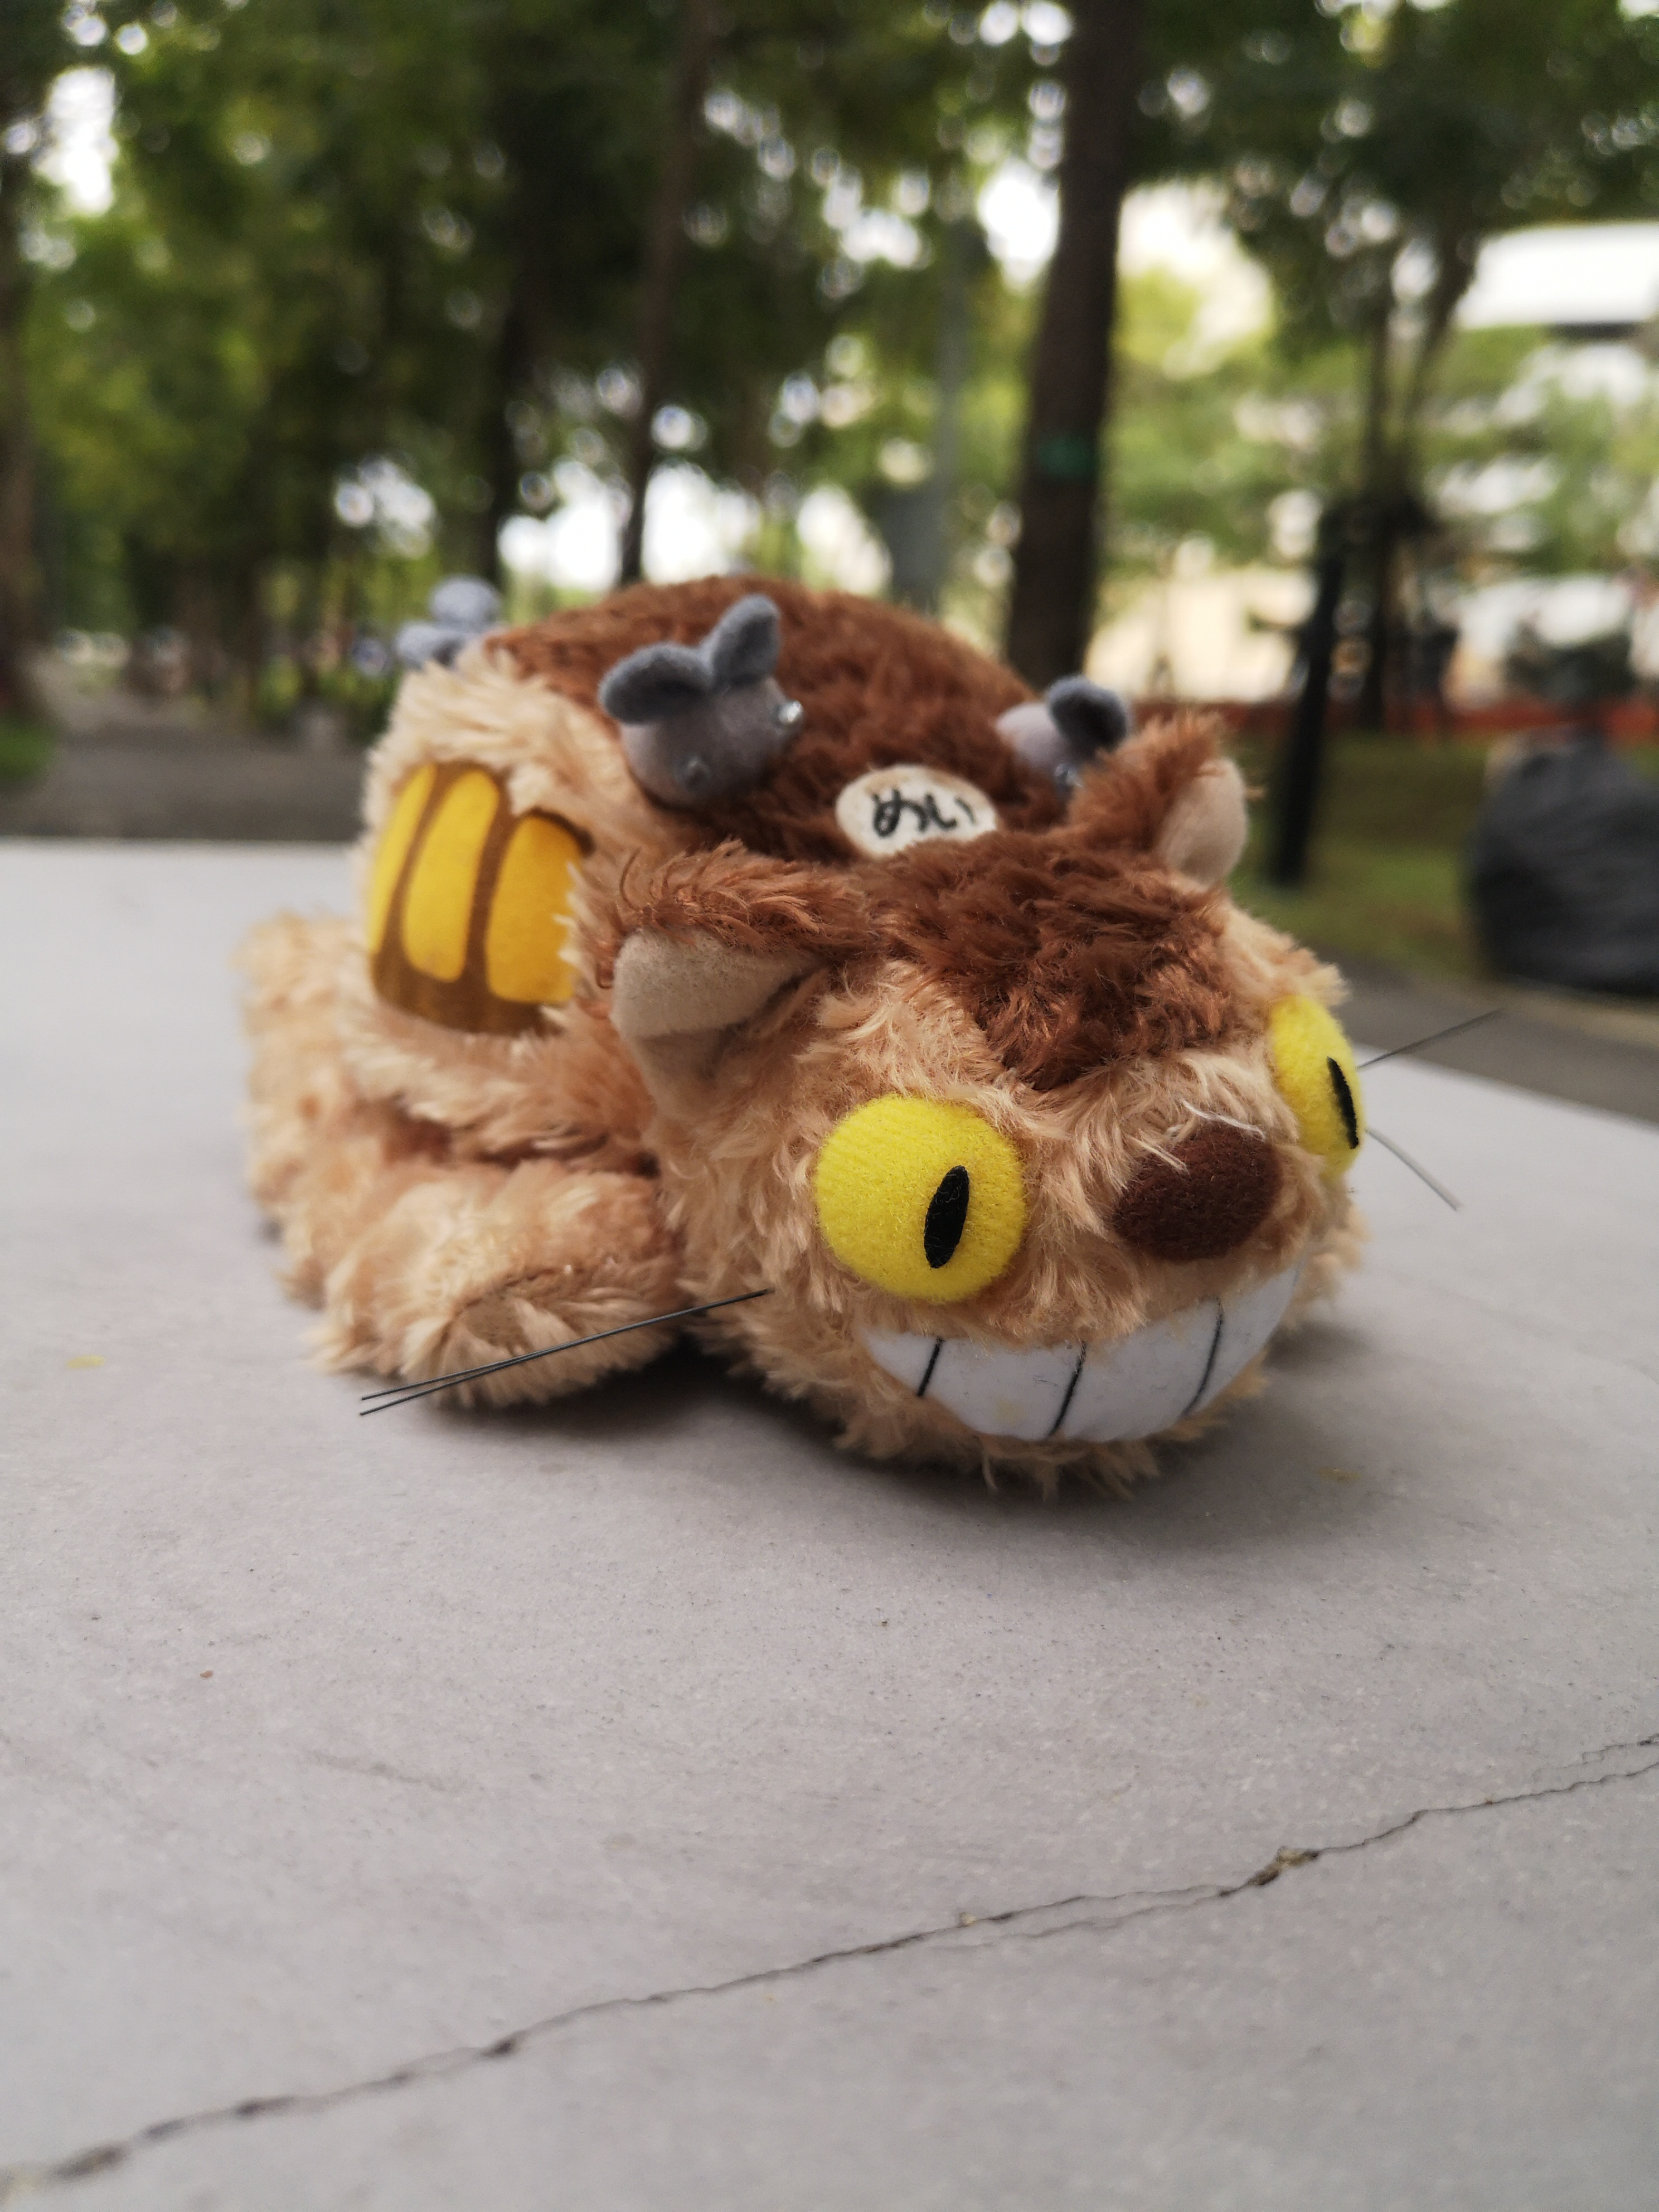nekobus: (218, 568, 1502, 1531)
